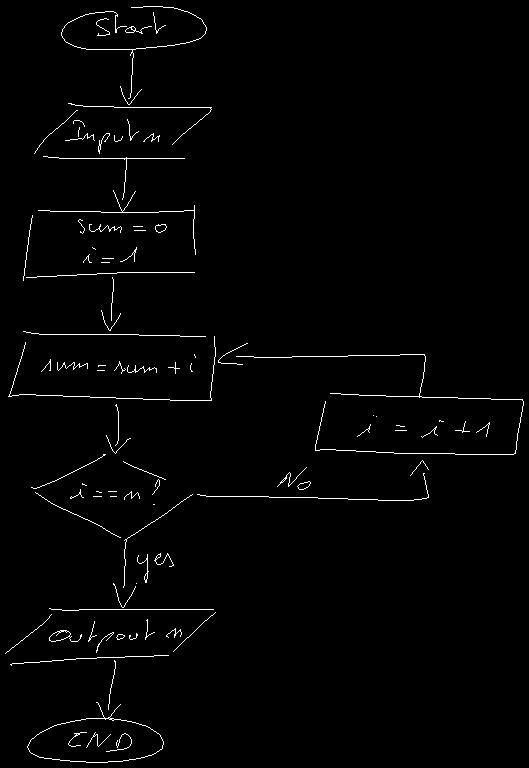arrow: (218, 343, 425, 397), (197, 460, 428, 500), (113, 540, 136, 607), (96, 660, 120, 719), (113, 157, 135, 212), (106, 404, 130, 453), (120, 50, 141, 104), (101, 277, 120, 330)
data: (5, 608, 215, 665), (34, 103, 211, 158)
decision: (31, 454, 192, 540)
process: (8, 331, 215, 400), (23, 205, 195, 280), (315, 393, 523, 454)
terminator: (61, 6, 206, 49), (27, 718, 163, 762)
text: (49, 619, 181, 652), (78, 219, 166, 262), (65, 119, 159, 153), (41, 354, 195, 373), (357, 415, 489, 437), (70, 479, 159, 504), (96, 12, 165, 35), (68, 732, 131, 751), (137, 553, 173, 582), (277, 467, 310, 489)
